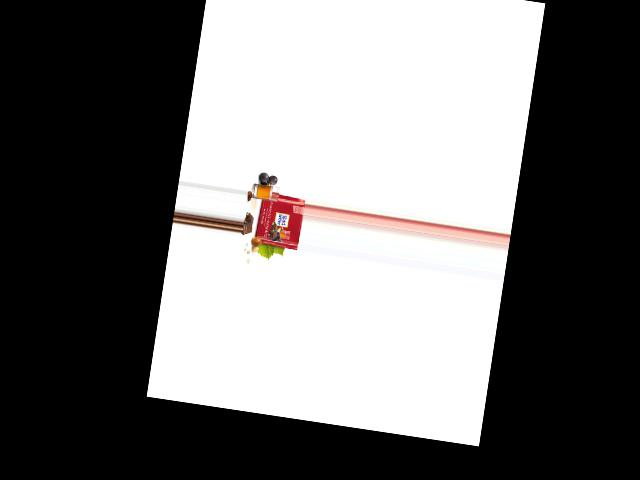chocolate: (254, 193, 304, 251)
